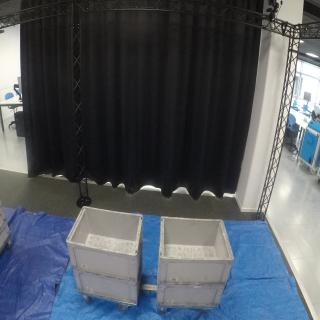Box4G: (66, 205, 146, 286), (157, 217, 234, 287), (72, 262, 147, 308), (157, 278, 231, 307)
